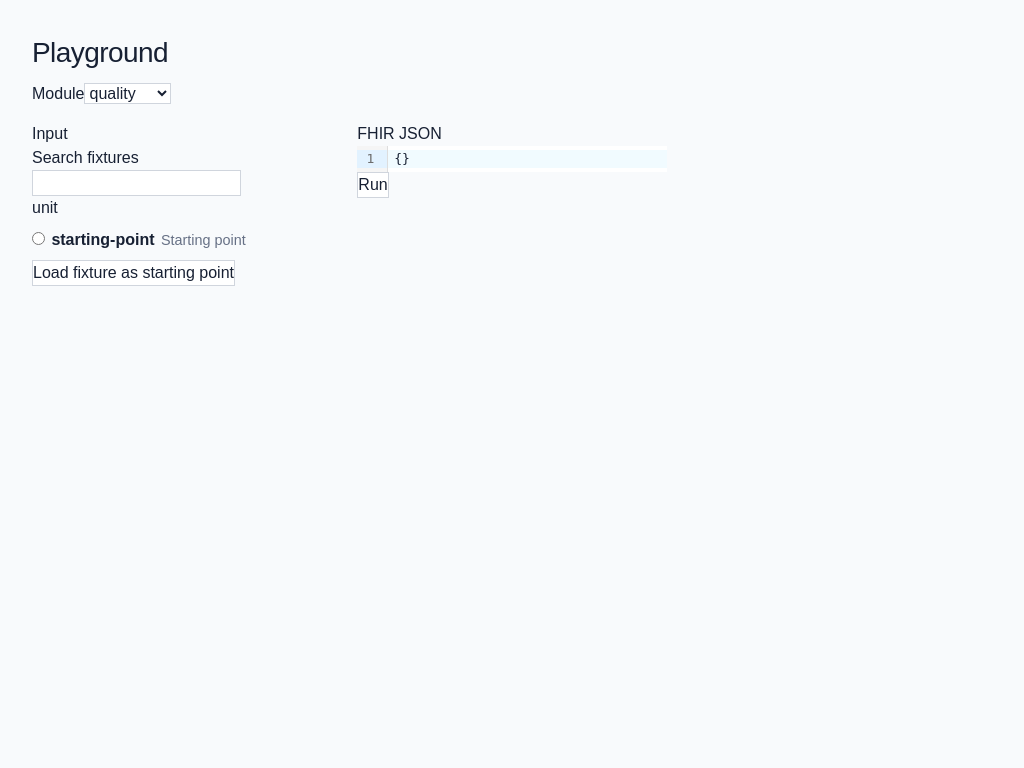
Test: Playground › renders the decision lane and artifacts without a verdict strip after a successful Run
The width and height of the screenshot is (1024, 768).
Click the button "Run" at [373, 185], box [357,172,389,198]
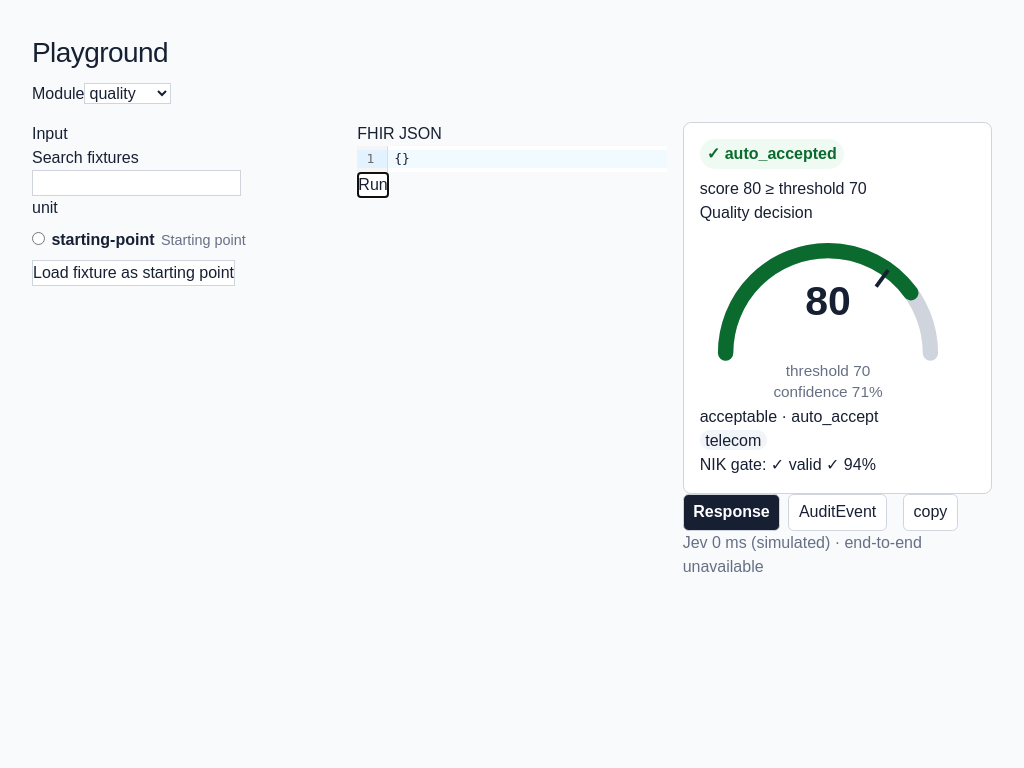
Expected: the text "✓ auto_accepted" is shown, [700,139,844,169]
Expected: the heading "Quality decision" is shown, [700,204,813,221]
Expected: the element named "Artifacts" is shown, [683,494,992,531]
